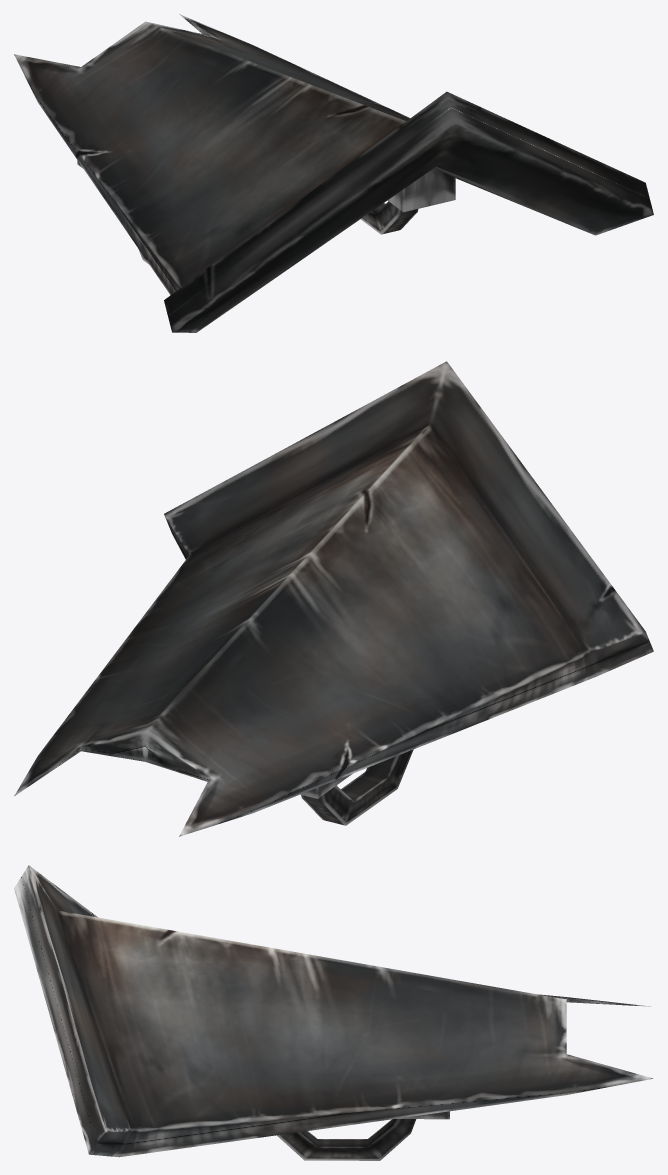
File: OrcShieldB.fbx
3 views of the same model, one above another, from view 1: azimuth 30°, elevation 25°; view 2: azimuth 150°, elevation 25°; view 3: azimuth 270°, elevation 25° (orthographic). The views are drawn at different scales.
Visible parts, largest first — view 1: OrcShieldB; view 2: OrcShieldB; view 3: OrcShieldB.
Part boxes in pixels (x1,y1,x2,y2): OrcShieldB: (14,14,653,332); OrcShieldB: (14,361,653,836); OrcShieldB: (14,865,652,1160).
Size of the model in its own units: 14.52 by 8.4 by 18.71.
